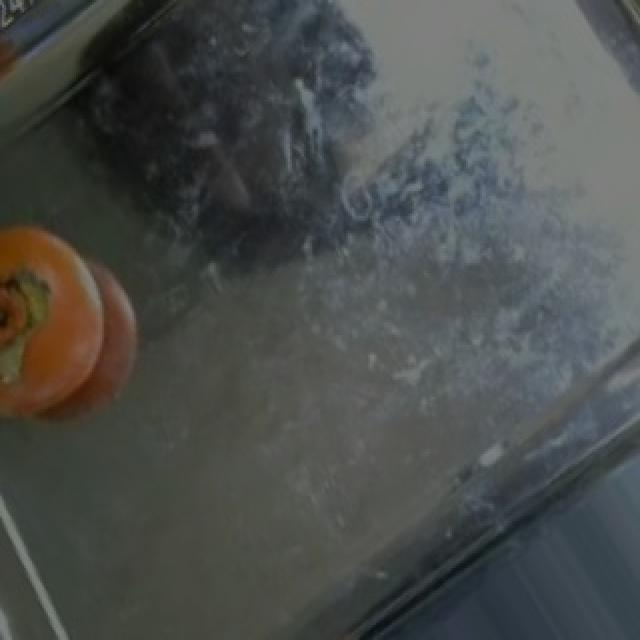Fruit: (0, 203, 128, 444)
